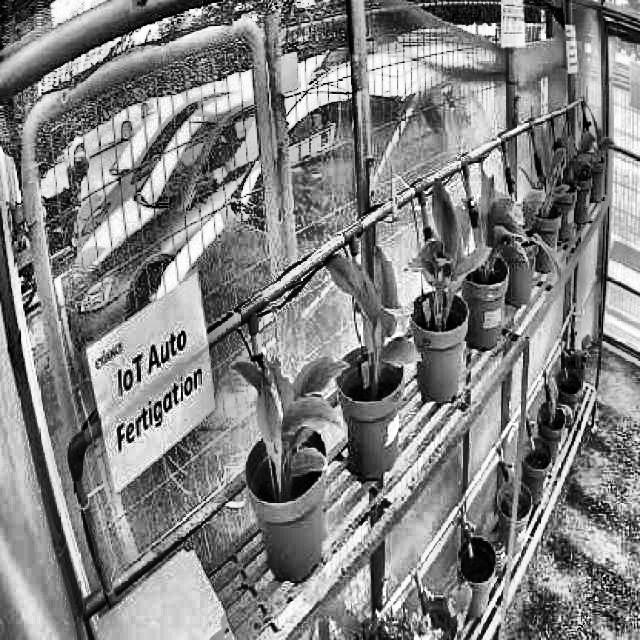plants: (234, 358, 346, 482), (320, 248, 422, 366), (406, 179, 484, 298), (474, 160, 528, 276), (536, 134, 572, 212)
